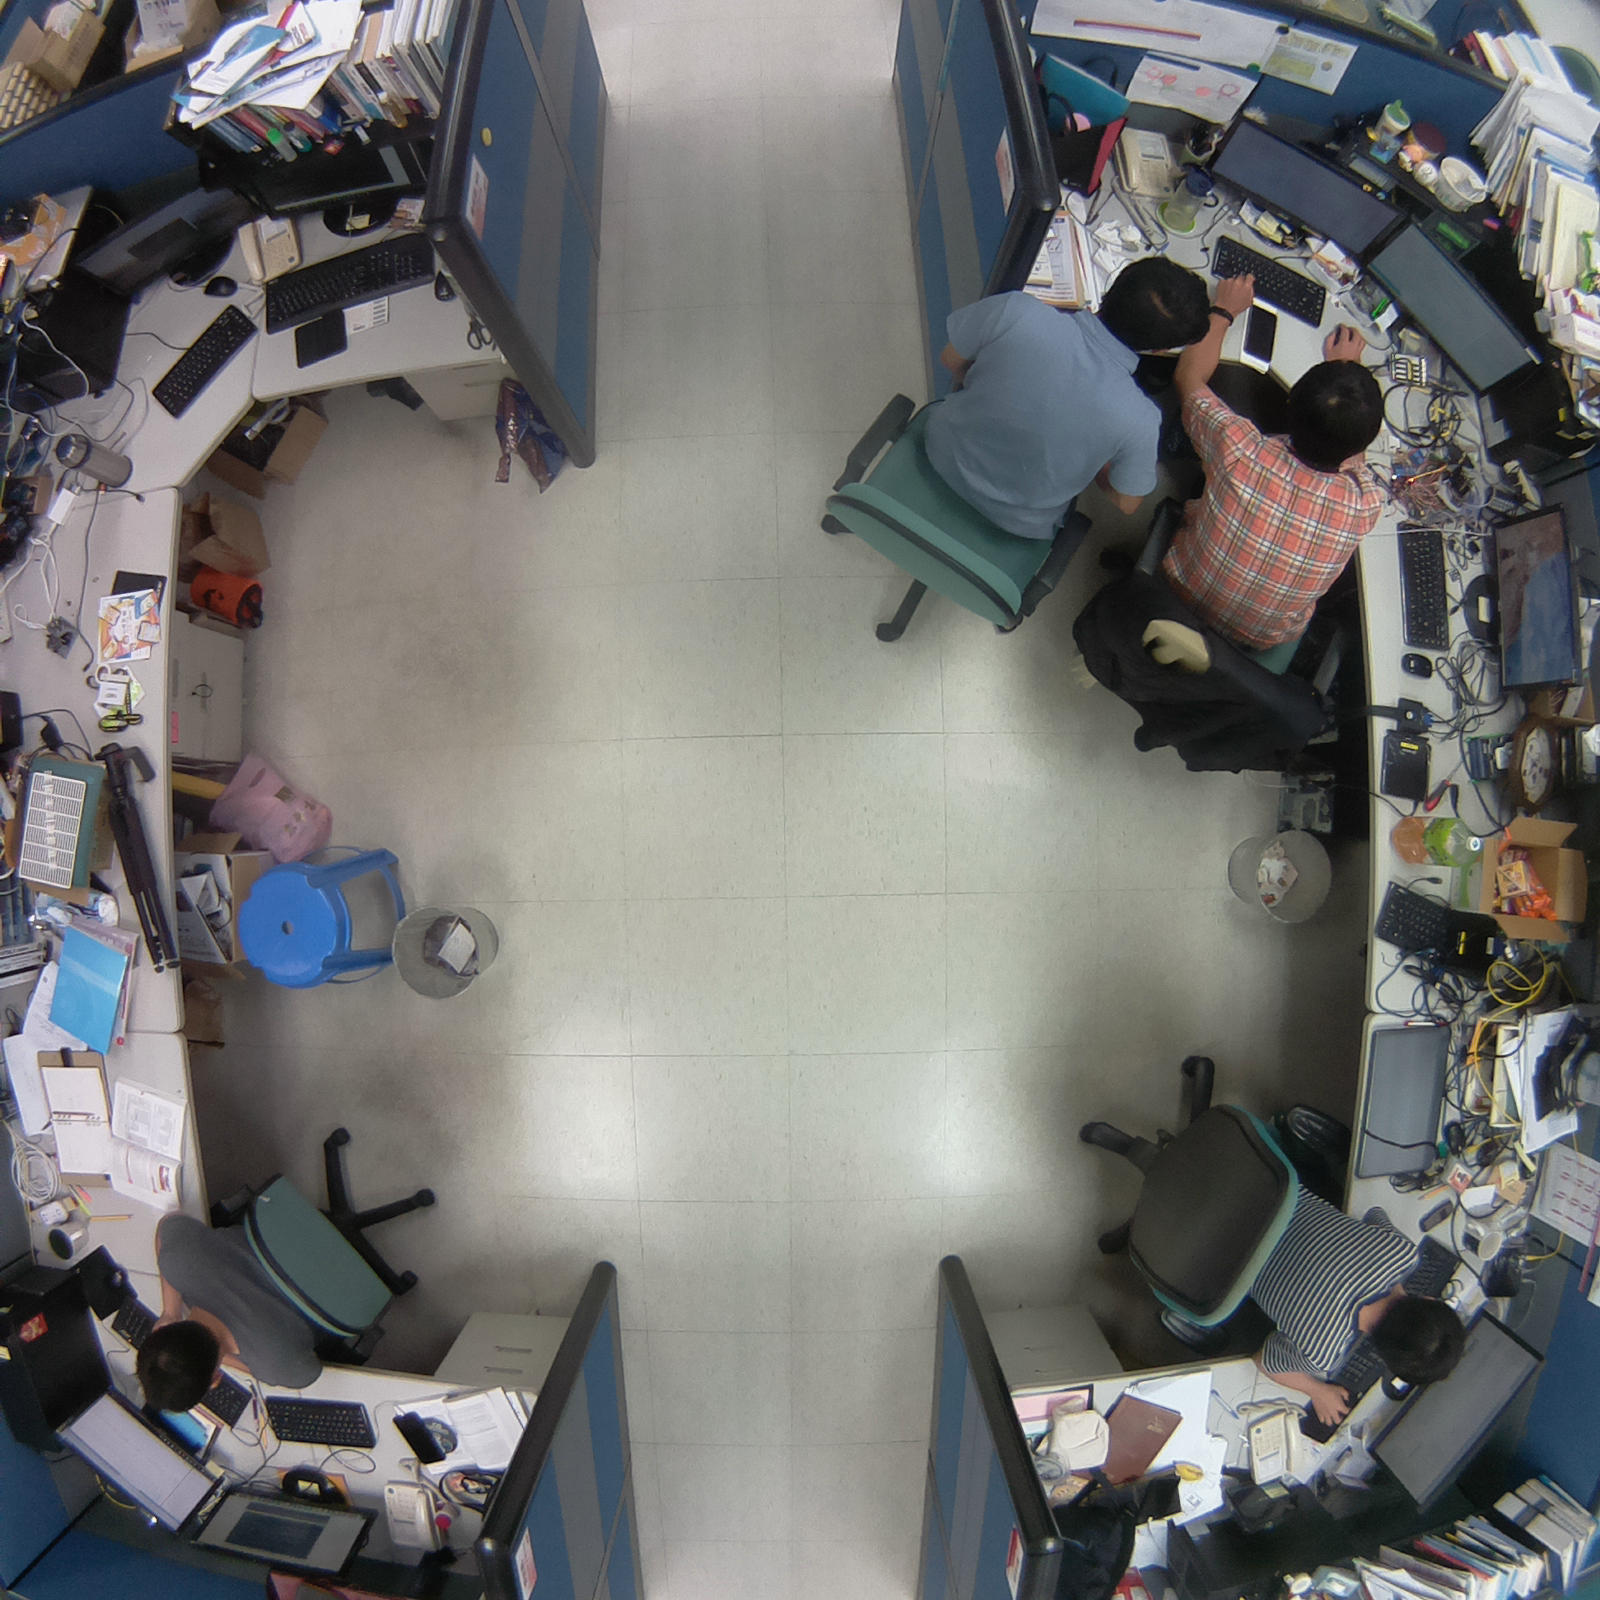head: (1280, 348, 1388, 476), (1102, 243, 1217, 360), (1366, 1287, 1474, 1398), (128, 1318, 232, 1416)
sitting: (1053, 1024, 1478, 1437), (806, 246, 1215, 670), (1053, 323, 1390, 783), (124, 1109, 453, 1418)
